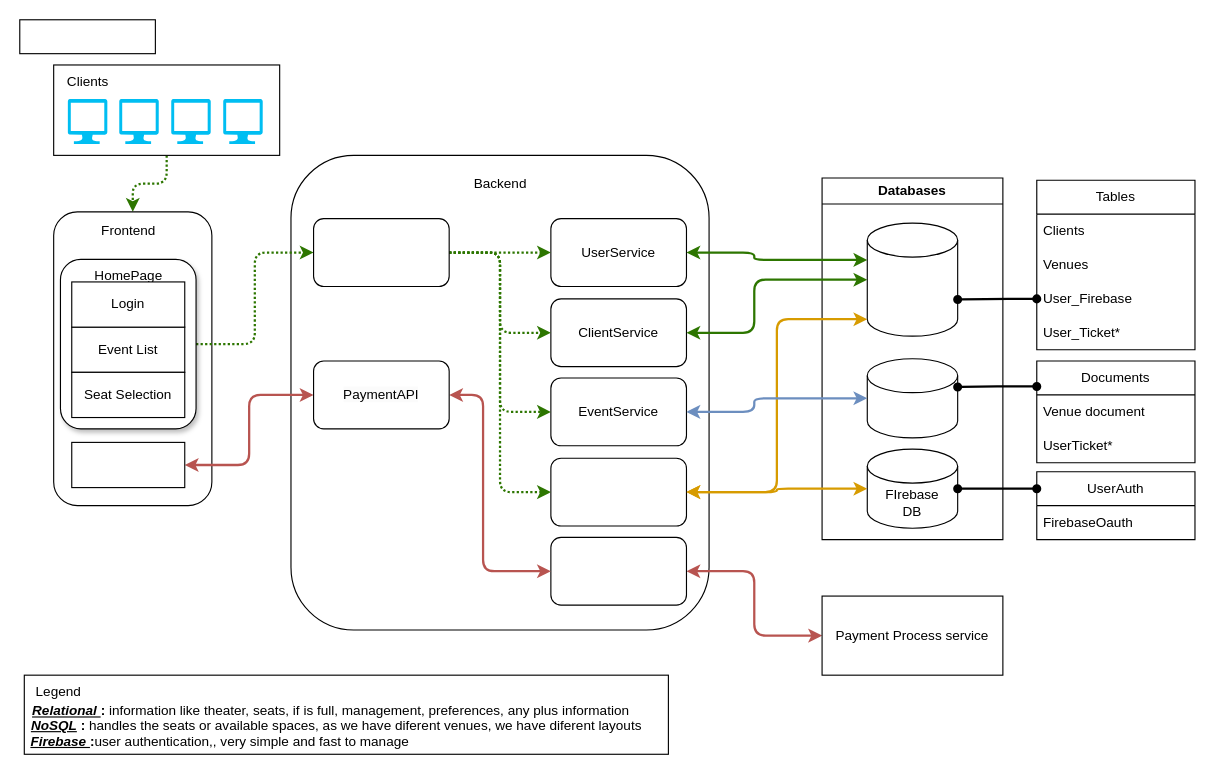
The diagram is 1215 pixels wide and 774 high, and some of its shapes have lost their labels. The shapes that lost their labels are listed below. From the top down, each one's centre as x and y in pixels, then its label:
the point at 87,36: Proposed Flow
the point at 380,252: Agregator API
the point at 912,279: Relational DB
the point at 912,398: NoSQL DB
the point at 128,464: Checkout
the point at 618,491: AuthService
the point at 618,570: Payment
